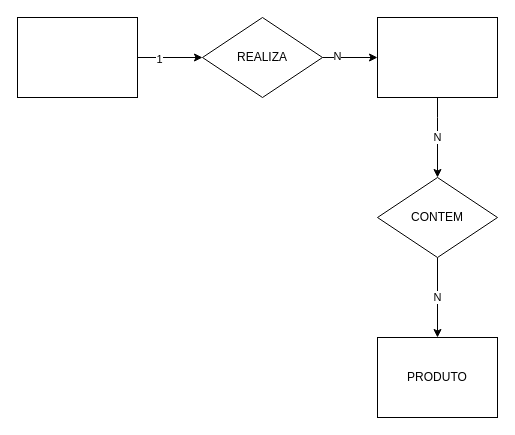
Image size: 515x435. Some labels were removed from this diagram. The shapes that lost their labels are listed below. From the top down, each one's box as (x1, y1, x2, y2) in pixels, then its label:
(16, 16, 138, 98): CLIENTE
(376, 16, 498, 98): PEDIDO
